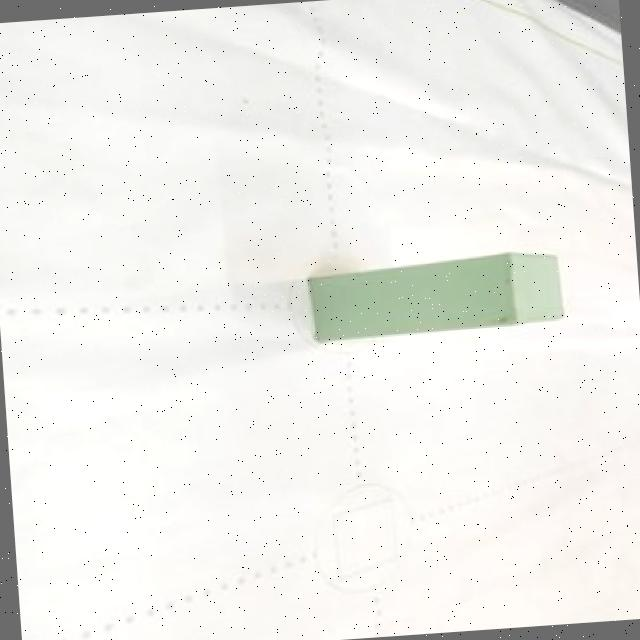greenbox: (304, 246, 570, 344)
